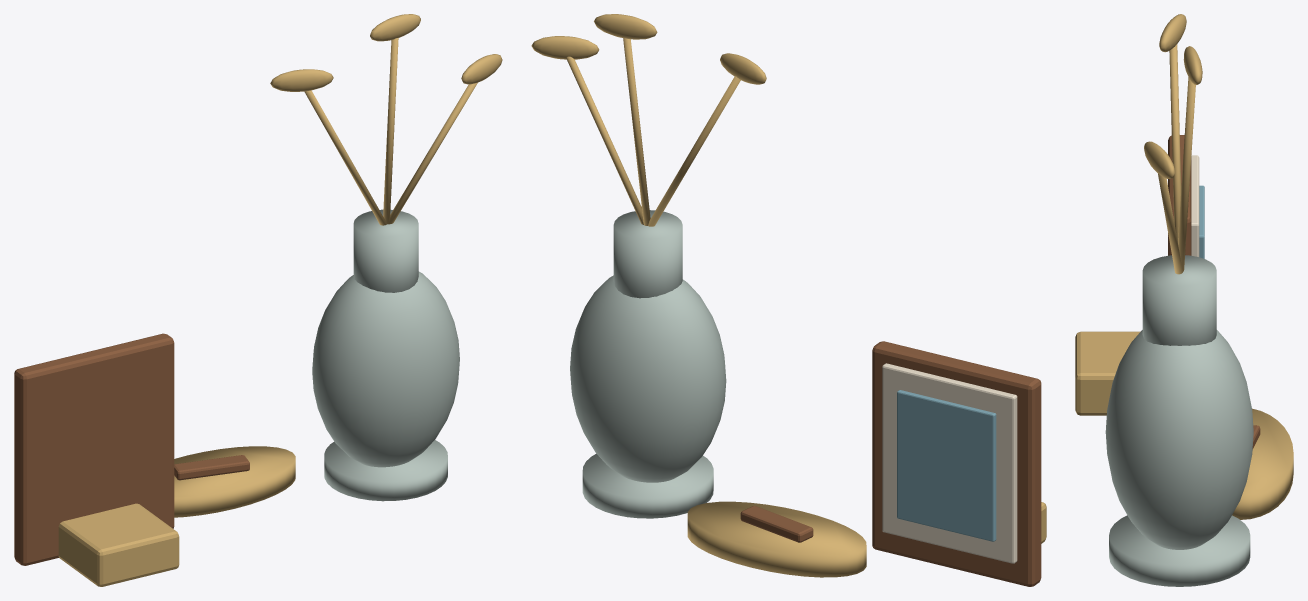
File: console_dressing.glb
3 renders of one model, left to right at view 1: azimuth 30°, elevation 25°; view 2: azimuth 150°, elevation 25°; view 3: azimuth 270°, elevation 25°, orthographic. The views are drawn at different scales.
Visible parts, largest first — view 1: arrival_dressing_console_010_photo_back, arrival_dressing_console_002_vase_body, arrival_dressing_console_013_photo_stand, arrival_dressing_console_014_key_tray, arrival_dressing_console_001_vase_foot, arrival_dressing_console_003_vase_neck, arrival_dressing_console_006_branch_1, arrival_dressing_console_015_keys, arrival_dressing_console_008_branch_2, arrival_dressing_console_004_branch_0, arrival_dressing_console_005_branch_leaf_0, arrival_dressing_console_007_branch_leaf_1 (+1 smaller); view 2: arrival_dressing_console_002_vase_body, arrival_dressing_console_010_photo_back, arrival_dressing_console_012_photo_field, arrival_dressing_console_011_photo_mat, arrival_dressing_console_014_key_tray, arrival_dressing_console_001_vase_foot, arrival_dressing_console_003_vase_neck, arrival_dressing_console_006_branch_1, arrival_dressing_console_008_branch_2, arrival_dressing_console_015_keys, arrival_dressing_console_004_branch_0, arrival_dressing_console_009_branch_leaf_2 (+2 smaller); view 3: arrival_dressing_console_002_vase_body, arrival_dressing_console_001_vase_foot, arrival_dressing_console_003_vase_neck, arrival_dressing_console_014_key_tray, arrival_dressing_console_013_photo_stand, arrival_dressing_console_006_branch_1, arrival_dressing_console_004_branch_0, arrival_dressing_console_011_photo_mat, arrival_dressing_console_010_photo_back, arrival_dressing_console_008_branch_2, arrival_dressing_console_009_branch_leaf_2, arrival_dressing_console_005_branch_leaf_0 (+2 smaller).
Part boxes in pixels (box(x1,y1,x2,y2)): arrival_dressing_console_010_photo_back: box(14, 333, 174, 565); arrival_dressing_console_002_vase_body: box(312, 271, 459, 467); arrival_dressing_console_013_photo_stand: box(58, 503, 179, 586); arrival_dressing_console_014_key_tray: box(174, 446, 295, 517); arrival_dressing_console_001_vase_foot: box(324, 440, 447, 501); arrival_dressing_console_003_vase_neck: box(353, 209, 418, 292); arrival_dressing_console_006_branch_1: box(383, 38, 398, 224); arrival_dressing_console_015_keys: box(174, 455, 249, 480); arrival_dressing_console_008_branch_2: box(388, 82, 477, 224); arrival_dressing_console_004_branch_0: box(304, 90, 386, 225); arrival_dressing_console_005_branch_leaf_0: box(270, 69, 333, 91); arrival_dressing_console_007_branch_leaf_1: box(370, 14, 420, 41); arrival_dressing_console_002_vase_body: box(570, 275, 726, 482); arrival_dressing_console_010_photo_back: box(872, 341, 1041, 586); arrival_dressing_console_012_photo_field: box(897, 390, 996, 541); arrival_dressing_console_011_photo_mat: box(882, 363, 1017, 563); arrival_dressing_console_014_key_tray: box(687, 501, 866, 577); arrival_dressing_console_001_vase_foot: box(582, 453, 713, 518); arrival_dressing_console_003_vase_neck: box(613, 210, 682, 298); arrival_dressing_console_006_branch_1: box(623, 38, 650, 225); arrival_dressing_console_008_branch_2: box(566, 56, 643, 224); arrival_dressing_console_015_keys: box(740, 506, 813, 542); arrival_dressing_console_004_branch_0: box(648, 76, 740, 226); arrival_dressing_console_009_branch_leaf_2: box(531, 36, 599, 59); arrival_dressing_console_002_vase_body: box(1105, 330, 1253, 549); arrival_dressing_console_001_vase_foot: box(1109, 515, 1250, 586); arrival_dressing_console_003_vase_neck: box(1142, 255, 1216, 345); arrival_dressing_console_014_key_tray: box(1232, 408, 1293, 519); arrival_dressing_console_013_photo_stand: box(1075, 331, 1140, 415); arrival_dressing_console_006_branch_1: box(1178, 77, 1195, 271); arrival_dressing_console_004_branch_0: box(1169, 44, 1181, 242); arrival_dressing_console_011_photo_mat: box(1191, 155, 1199, 256); arrival_dressing_console_010_photo_back: box(1168, 135, 1191, 255); arrival_dressing_console_008_branch_2: box(1158, 173, 1182, 274); arrival_dressing_console_009_branch_leaf_2: box(1144, 141, 1174, 178); arrival_dressing_console_005_branch_leaf_0: box(1159, 14, 1186, 52).
Bounding box in the file's own units: 0.941 × 0.84 × 0.3242.
